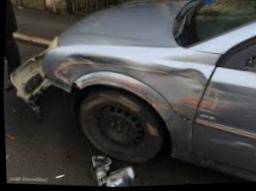Bumper: (8, 47, 72, 111)
Fender: (40, 51, 212, 165)
